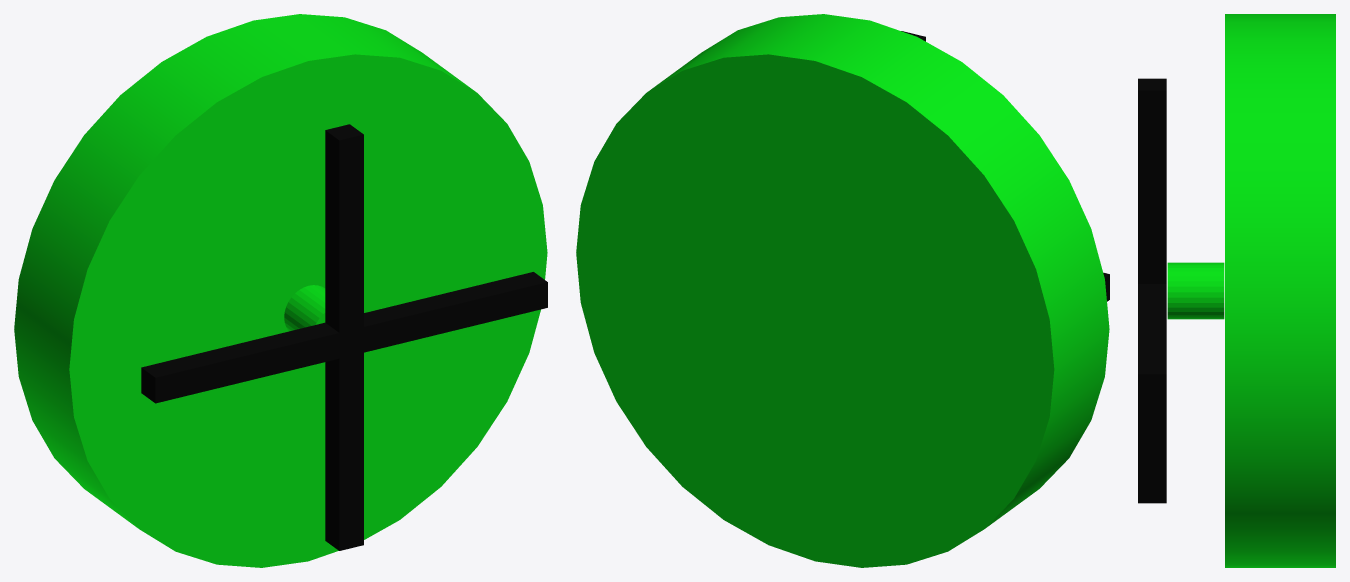
File: enemy-jet.glb
The picture shows the model from 3 angles, left to right: view 1: azimuth 30°, elevation 25°; view 2: azimuth 150°, elevation 25°; view 3: azimuth 270°, elevation 25°; orthographic projection.
Visible parts, largest first — view 1: Cylinder.001, Cube, Cube.001, Cylinder; view 2: Cylinder.001; view 3: Cylinder.001, Cube, Cube.001, Cylinder.
Boxes of the visible parts, box(x1,y1,x2,y2) form: Cylinder.001: box(14, 14, 547, 567); Cube: box(325, 124, 363, 550); Cube.001: box(141, 272, 547, 403); Cylinder: box(284, 285, 325, 331); Cylinder.001: box(576, 14, 1109, 567); Cylinder.001: box(1225, 14, 1335, 567); Cube: box(1138, 78, 1166, 503); Cube.001: box(1138, 284, 1166, 399); Cylinder: box(1167, 262, 1224, 319).
Size of the model in its own units: 19.5 by 19.5 by 6.95.
